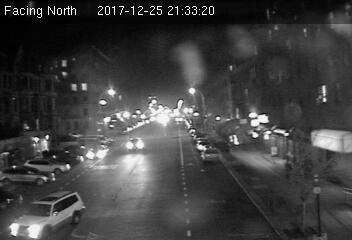car: (8, 191, 87, 238), (202, 147, 220, 162), (125, 136, 144, 150)
